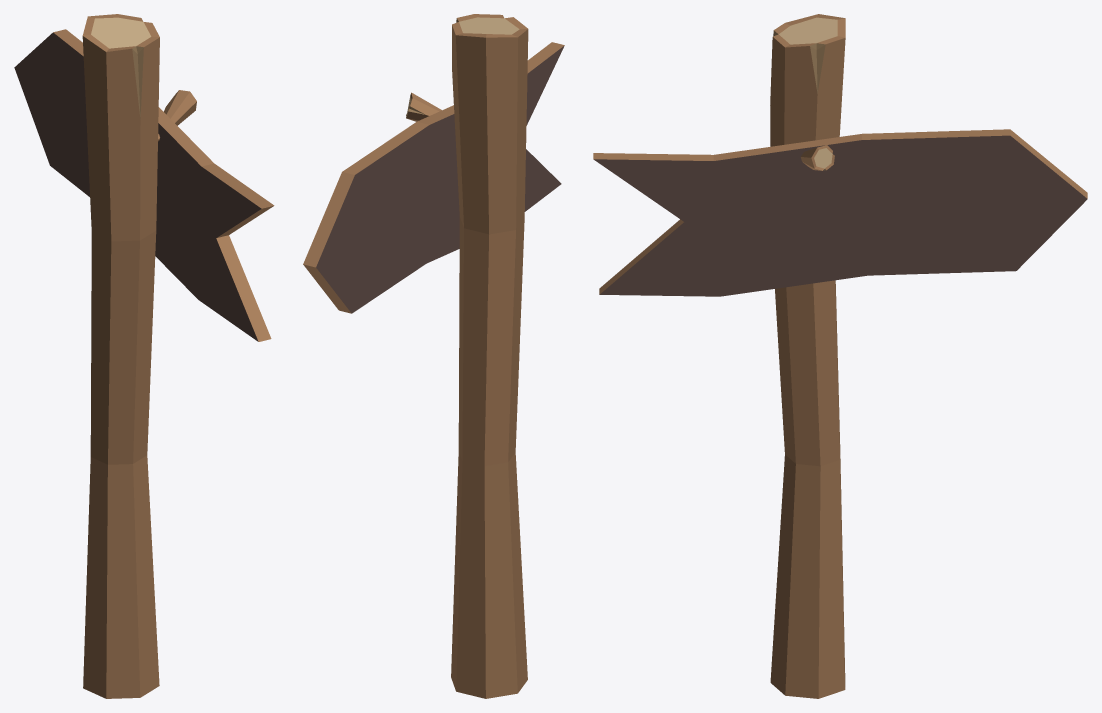
File: SignPost.glb
The picture shows the model from 3 angles, left to right: view 1: azimuth 30°, elevation 25°; view 2: azimuth 150°, elevation 25°; view 3: azimuth 270°, elevation 25°; orthographic projection.
Parts seen in each view (by area): view 1: Sign_01; view 2: Sign_01; view 3: Sign_01.
Part boxes in pixels (box(x1,y1,x2,y2)): Sign_01: box(14, 14, 274, 698); Sign_01: box(303, 14, 564, 698); Sign_01: box(593, 14, 1087, 698).
Size of what is drawn, in the model's own units: 0.3756 by 2.12 by 1.45.
Materials: 1 (1 with a texture image).
